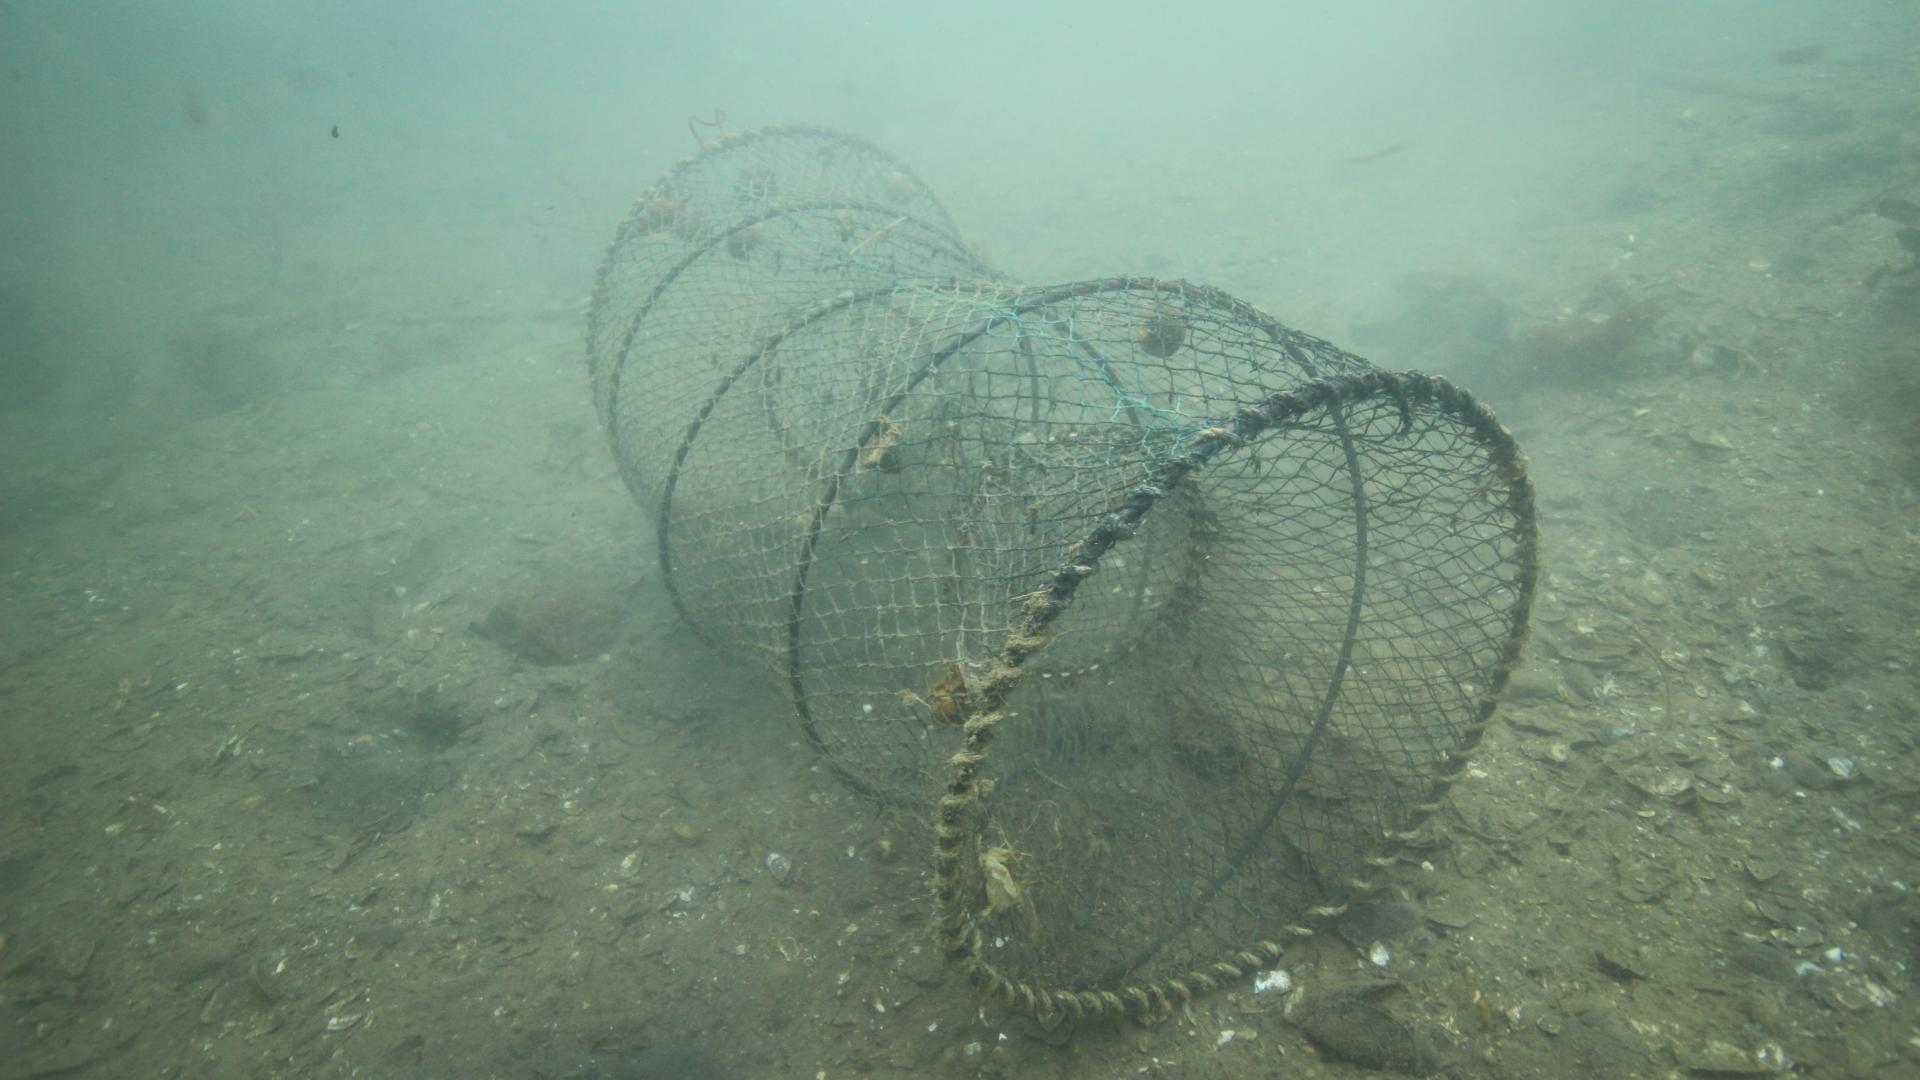spring fish trap: (580, 119, 1545, 1029)
